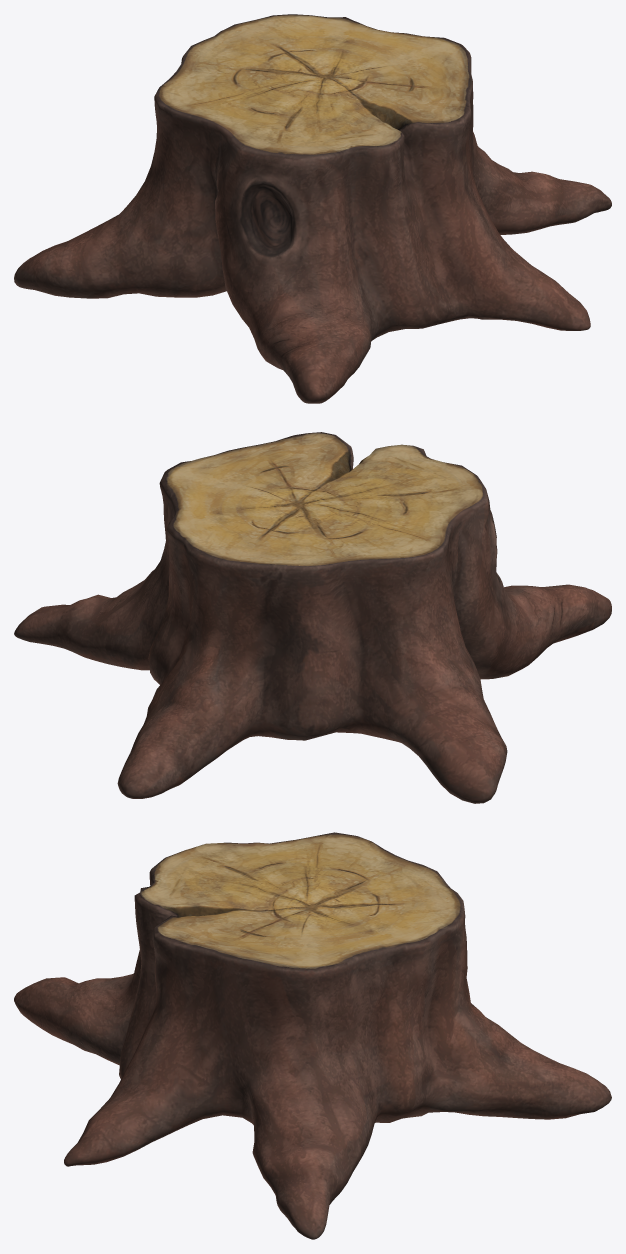
File: stump.gltf
The picture shows the model from 3 angles, top to bottom: view 1: azimuth 30°, elevation 25°; view 2: azimuth 150°, elevation 25°; view 3: azimuth 270°, elevation 25°; orthographic projection.
Visible parts, largest first — view 1: Tree_Stump.1; view 2: Tree_Stump.1; view 3: Tree_Stump.1.
Boxes of the visible parts, box(x1,y1,x2,y2) form: Tree_Stump.1: box(14, 14, 611, 403); Tree_Stump.1: box(14, 432, 611, 803); Tree_Stump.1: box(14, 832, 611, 1239).
Bounding box in the file's own units: 0.0407 × 0.0149 × 0.0398.
1 material, 1 textured.
